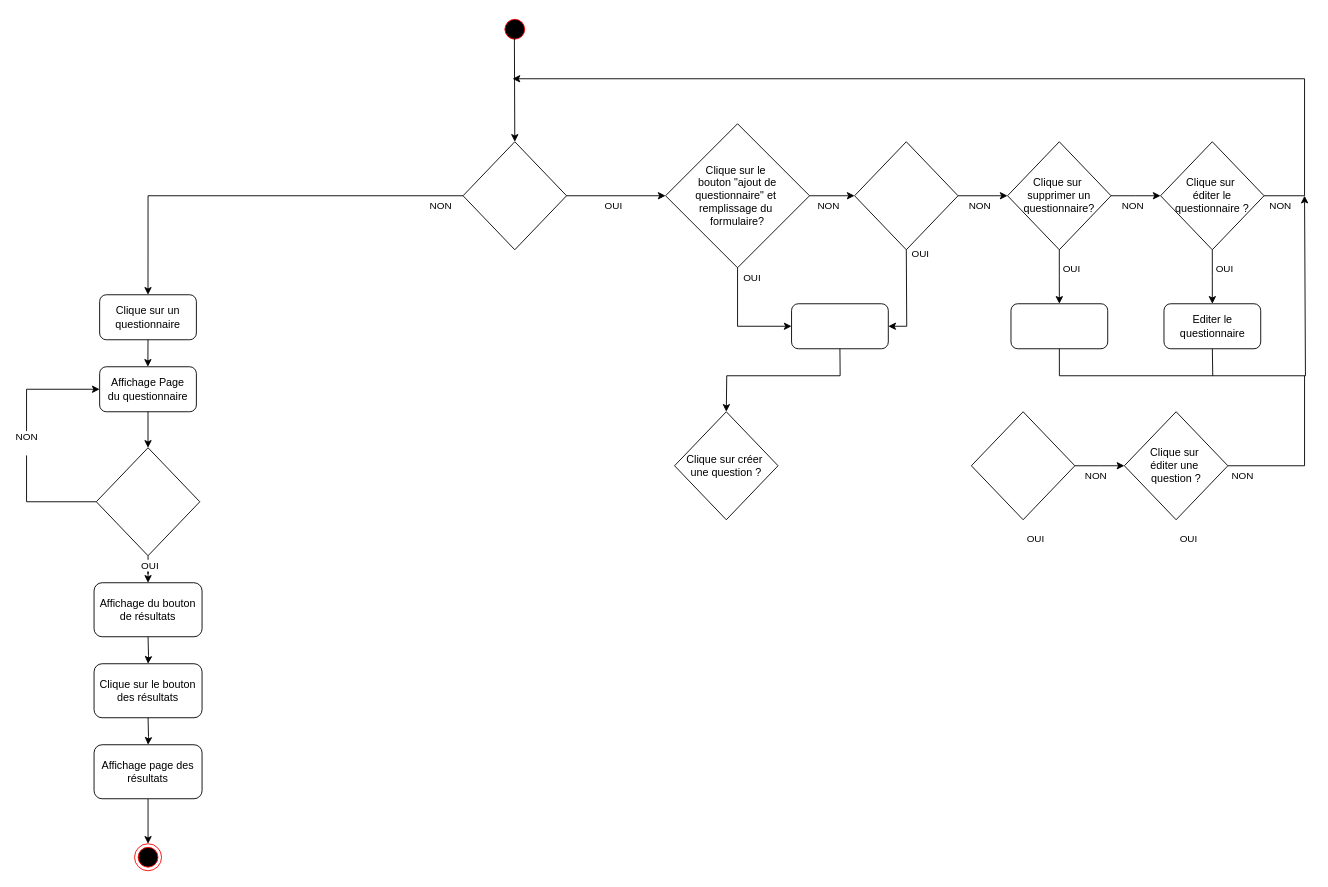
Some shapes in this 1328 by 887 pixel diagram are drawn without their labels. Here are the shapes that lost their labels. From the top down, the centre of each, then its label:
the point at 514,195: L'utilisateur est-il admin ?
the point at 906,195: Clique sur voir un questionnaire ?
the point at 839,326: Affichage du questionnaire
the point at 1059,326: Supprime le questionnaire
the point at 1022,465: Clique sur supprimer une question?
the point at 147,501: Le Questionnaire est-il rempli ?
